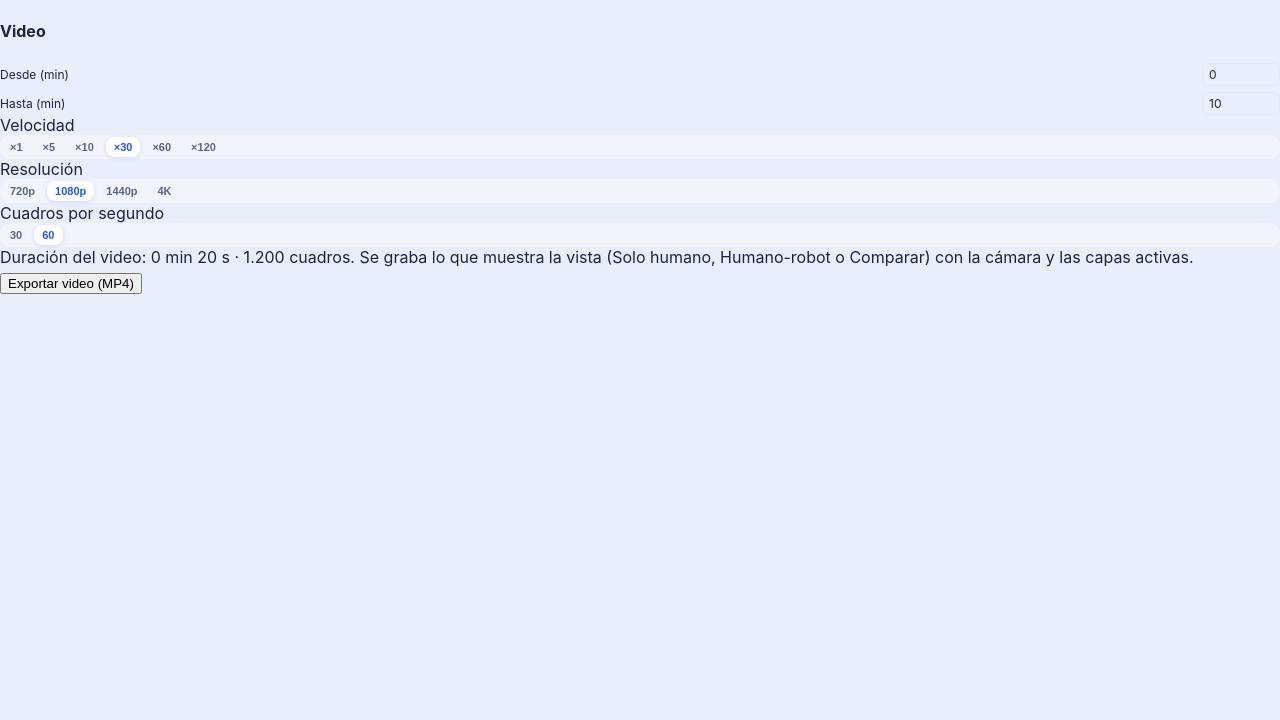
it: VideoPanel › muestra el error si todos los códecs fallan
The width and height of the screenshot is (1280, 720).
What coordinates should you click on to do the following:
click the button with test id "video-export"
I would click on:
 (71, 283)
Its box is 0,272 -> 142,294.
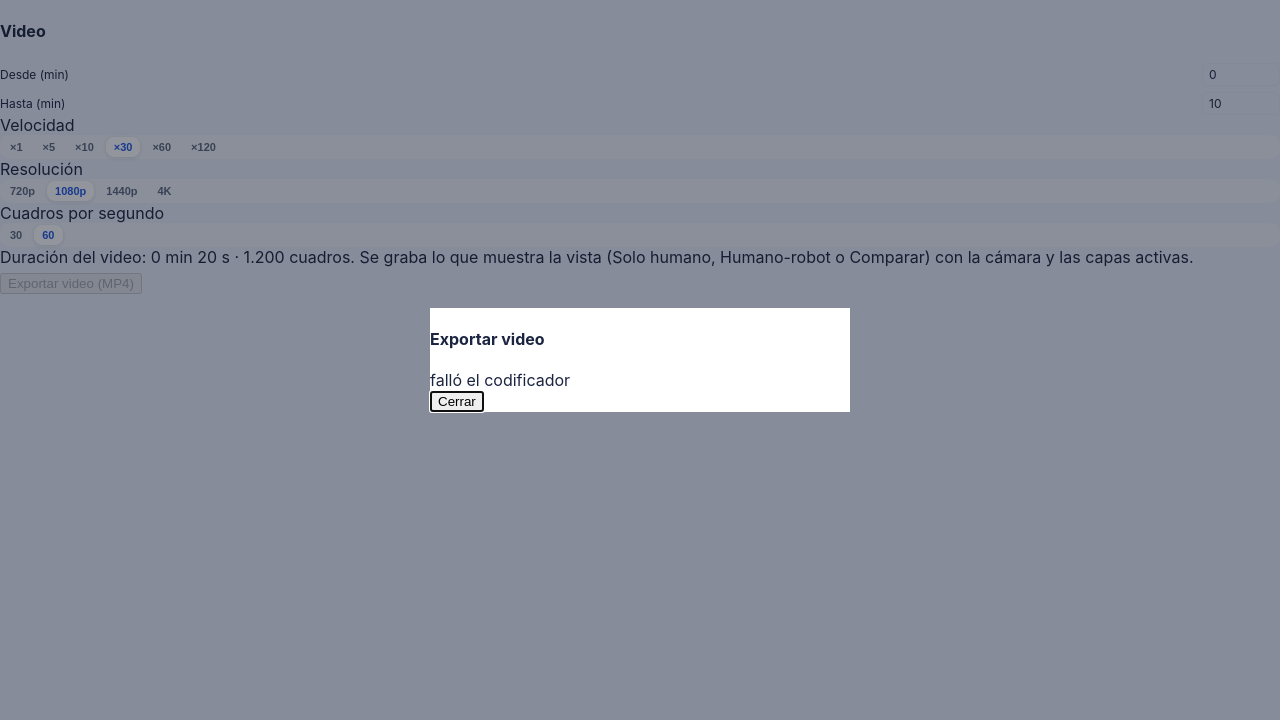
Result: the text "falló el codificador" is shown at 430,370 -> 570,390
